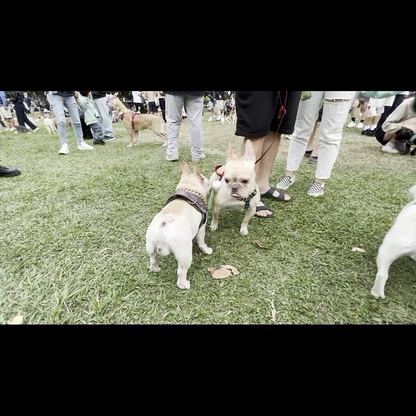bulldog: (208, 138, 263, 236)
